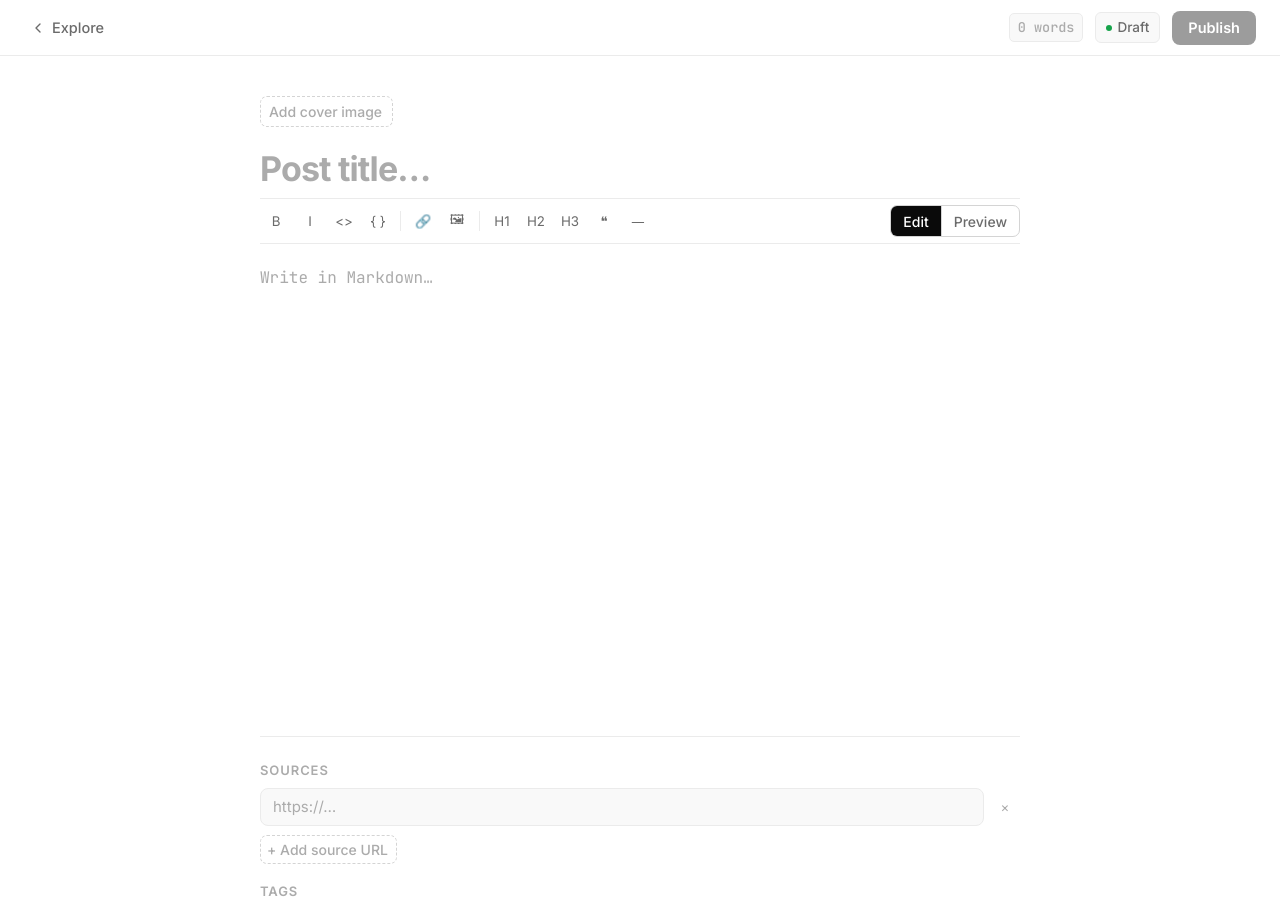
it: PostEditor (integration) › (PE-5) the Bold toolbar button wraps the selected text
Type "word" into the text box named "Post body".
click(640, 474); type("word")  # box 260,244 -> 1020,704
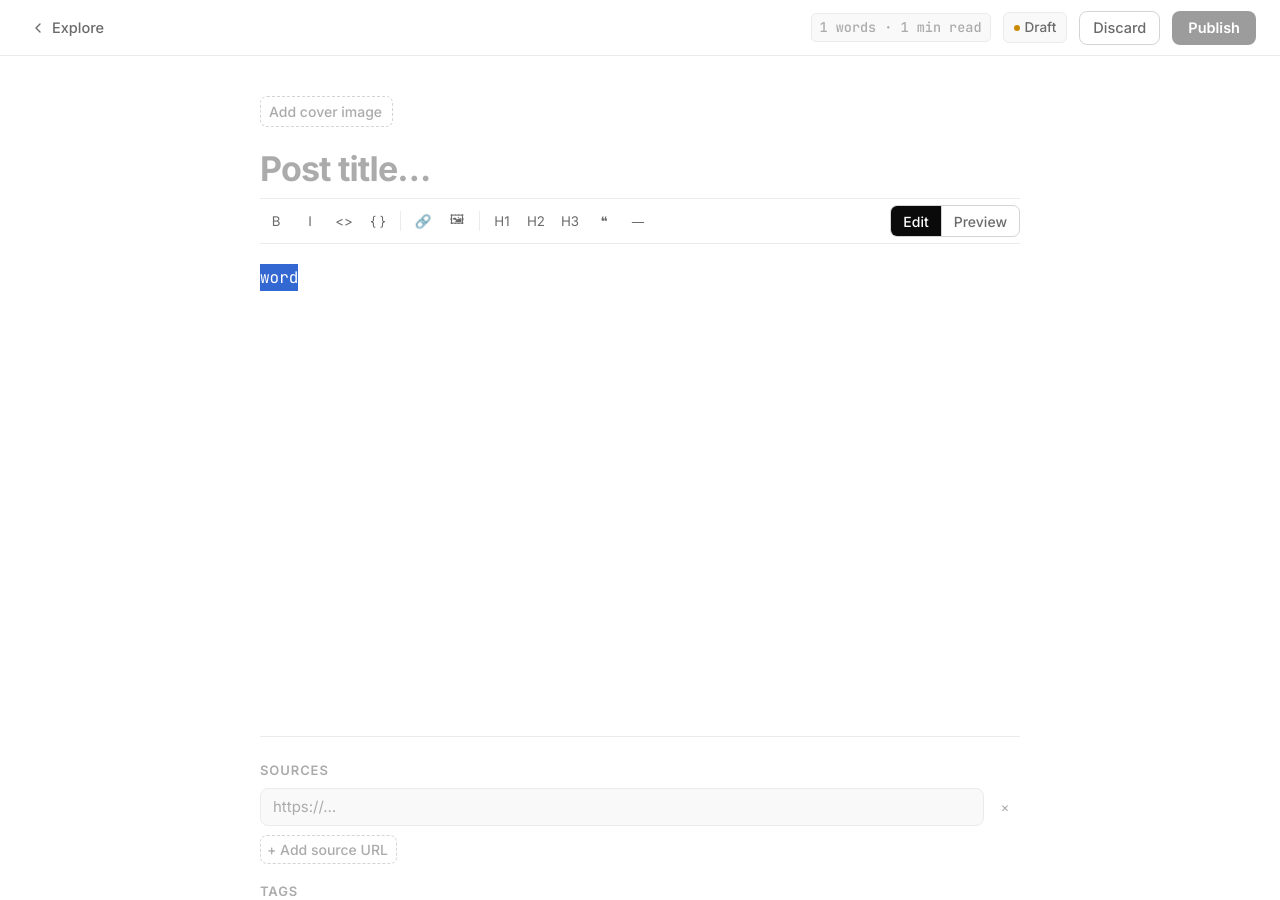
Click the button named "Bold".
click(276, 221)  # box 260,205 -> 292,237
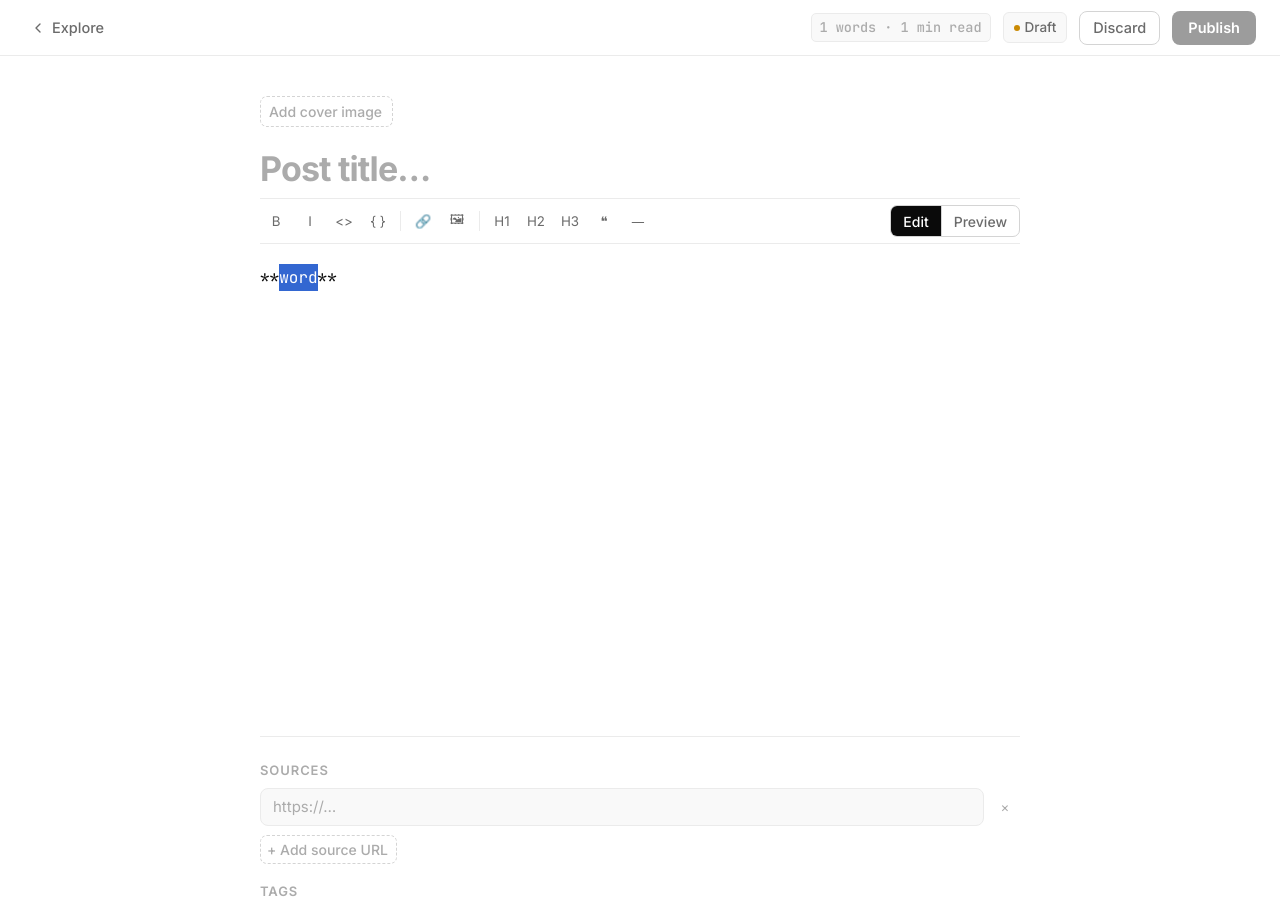
expect the text box named "Post body" holds "**word**": met, box 260,244 -> 1020,704
